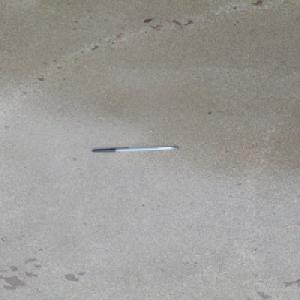Pen: (91, 145, 179, 152)
